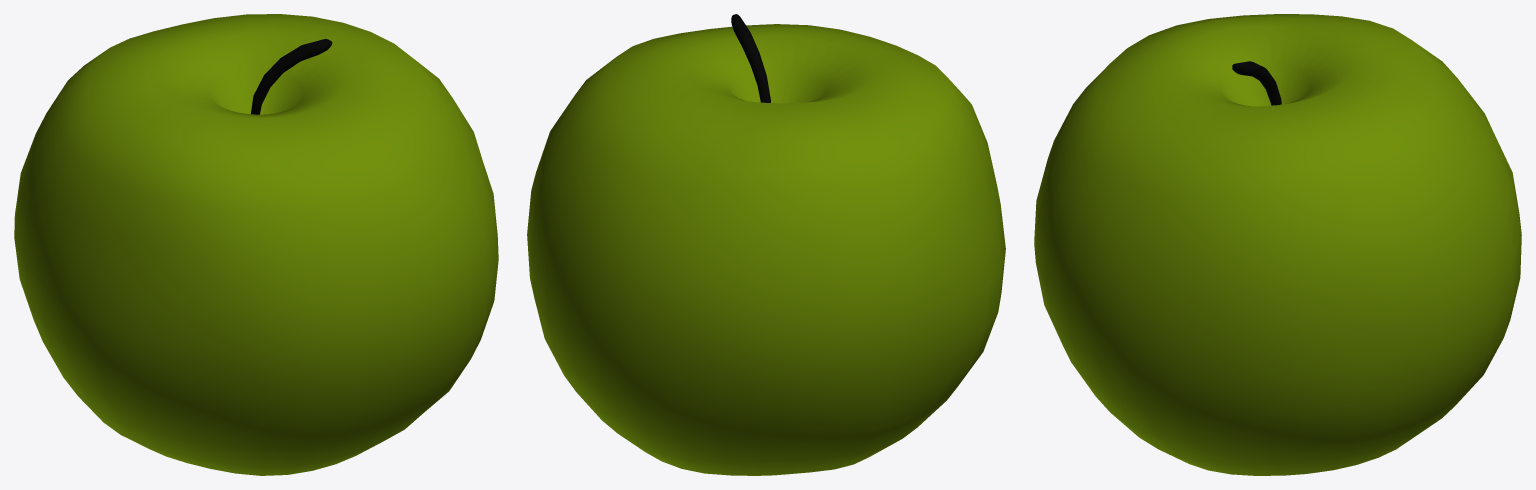
The model's file is apple.fbx.
3 renders of one model, left to right at view 1: azimuth 30°, elevation 25°; view 2: azimuth 150°, elevation 25°; view 3: azimuth 270°, elevation 25°, orthographic.
Visible parts, largest first — view 1: polySurface32; view 2: polySurface32; view 3: polySurface32.
Boxes of the visible parts, bbox=[...] form: polySurface32: bbox=[14, 14, 498, 475]; polySurface32: bbox=[527, 14, 1005, 475]; polySurface32: bbox=[1034, 14, 1521, 475].
Size of the model in its own units: 13.64 by 12.7 by 13.91.
